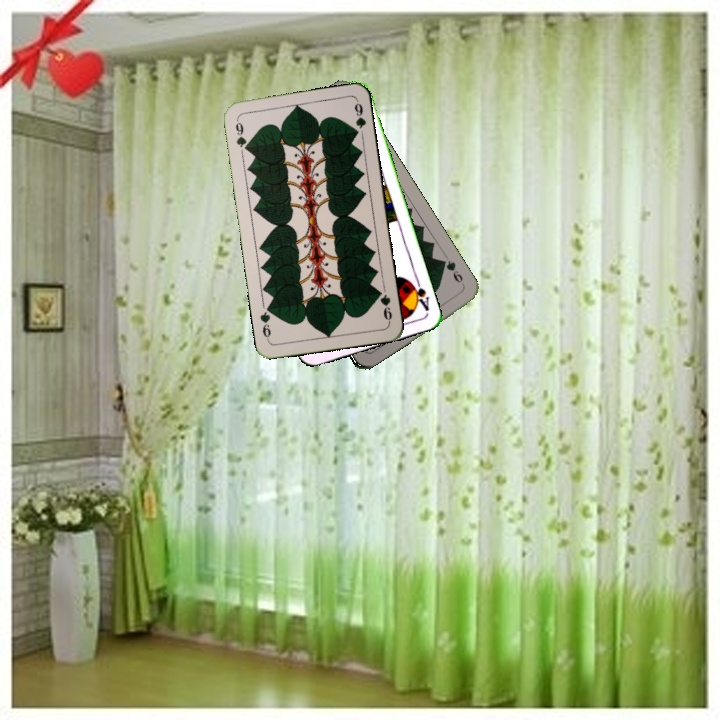G9: (437, 256, 467, 290), (373, 286, 395, 325), (231, 115, 251, 154)
SA: (405, 274, 432, 314)
